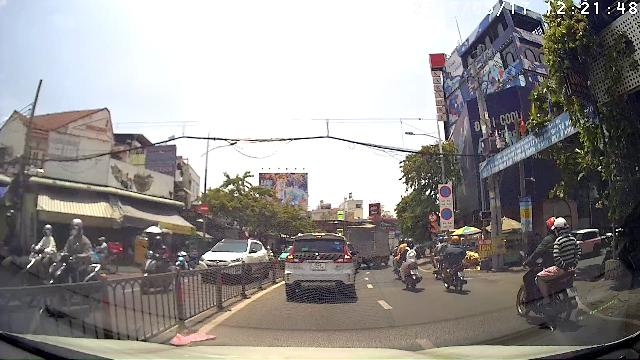130-cam-dung-va-do-xe: (439, 185, 452, 198)
131a-cam-do-xe: (441, 207, 453, 220)
